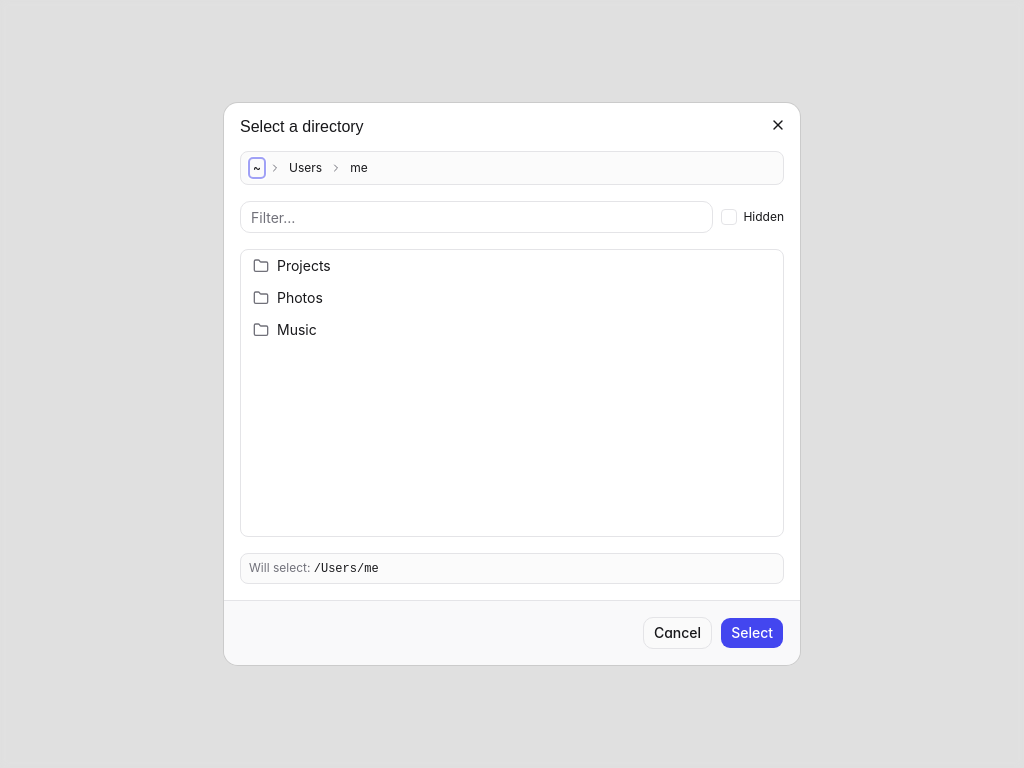
Test: DirectoryPicker › filter input narrows the visible list client-side
The width and height of the screenshot is (1024, 768).
Expected: the text "Music" is shown, [277,320,317,340]
Type "pho" into the field with placeholder "Filter…". click: (477, 217)
box: [240,201,713,233]
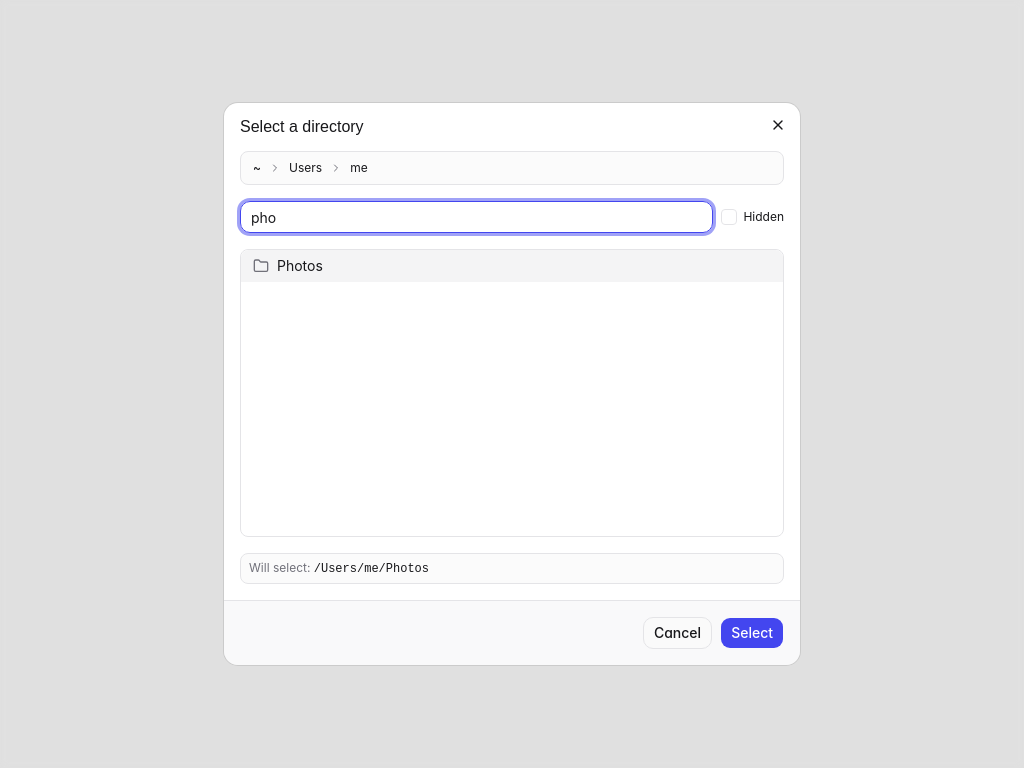
Expected: the text "Photos" is shown, [277,256,323,276]
Result: the button "Music" is gone
Result: the button "Projects" is gone
